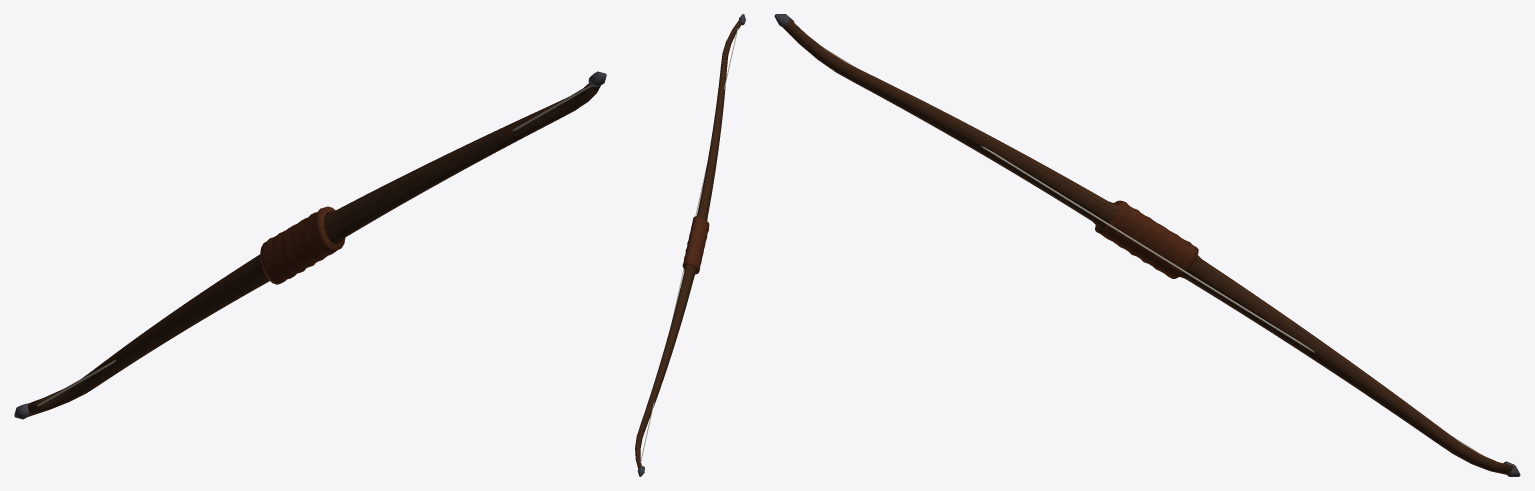
Rendered from weapon_wicker_bow.glb.
The picture shows the model from 3 angles, left to right: view 1: azimuth 30°, elevation 25°; view 2: azimuth 150°, elevation 25°; view 3: azimuth 270°, elevation 25°; orthographic projection. The views are drawn at different scales.
Parts seen in each view (by area): view 1: wicker_bow; view 2: wicker_bow; view 3: wicker_bow.
Boxes of the visible parts, x1,y1,x2,y2 form: wicker_bow: [14, 71, 606, 419]; wicker_bow: [635, 14, 745, 476]; wicker_bow: [774, 14, 1520, 476].
Bounding box in the file's own units: 0.2643 × 0.7263 × 0.8937.
4 materials, 3 textured.
